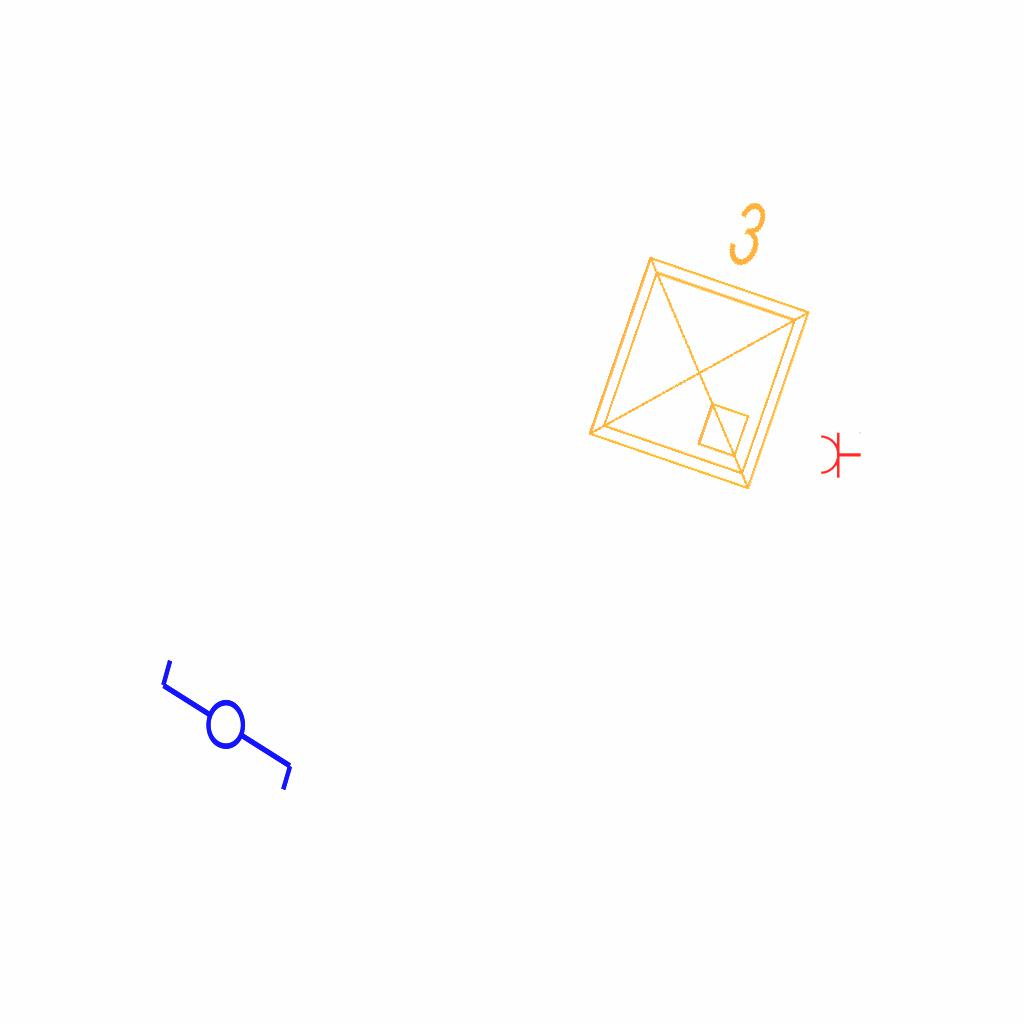Einbaudownlights_LED_Konferenzraeume: (561, 157, 857, 509)
Schukosteckdose_einfach: (819, 429, 862, 479)
Wechselschalter: (156, 638, 300, 795)
